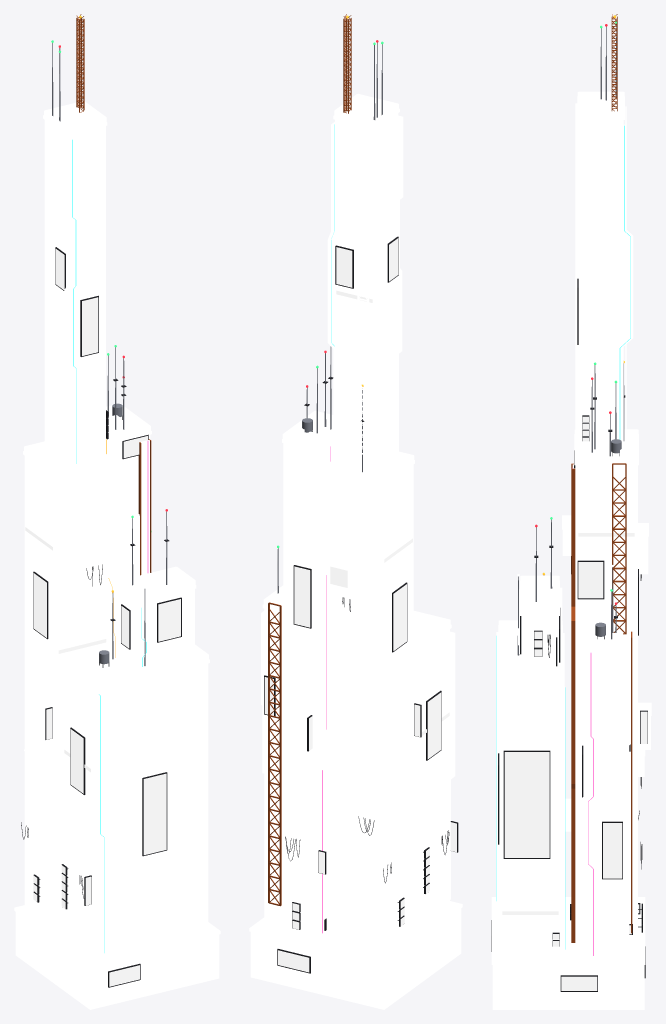
Rendered from k_block_a.glb.
The picture shows the model from 3 angles, left to right: view 1: azimuth 30°, elevation 25°; view 2: azimuth 150°, elevation 25°; view 3: azimuth 270°, elevation 25°; orthographic projection. The views are drawn at different scales.
Visible parts, largest first — view 1: kit_dark, kit_mid, kit_grey, screen_atlas, metal_dark, steel_orange, metal_light, neon_cyan; view 2: kit_mid, kit_dark, kit_grey, screen_atlas, steel_orange, metal_dark, metal_light; view 3: kit_dark, kit_grey, kit_mid, screen_atlas, steel_orange, metal_dark, kit_hex, metal_light, neon_cyan, neon_magenta.
Boxes of the visible parts, bbox=[...] form: kit_dark: bbox=[44, 120, 208, 957]; kit_mid: bbox=[15, 107, 219, 1009]; kit_grey: bbox=[14, 101, 220, 965]; screen_atlas: bbox=[25, 249, 180, 986]; metal_dark: bbox=[21, 247, 181, 987]; steel_orange: bbox=[76, 14, 151, 575]; metal_light: bbox=[52, 43, 167, 665]; neon_cyan: bbox=[72, 139, 146, 952]; kit_mid: bbox=[250, 100, 461, 1009]; kit_dark: bbox=[283, 113, 449, 940]; kit_grey: bbox=[249, 93, 462, 964]; screen_atlas: bbox=[264, 238, 456, 972]; steel_orange: bbox=[268, 14, 351, 906]; metal_dark: bbox=[264, 236, 458, 973]; metal_light: bbox=[277, 42, 382, 593]; kit_dark: bbox=[499, 120, 637, 957]; kit_grey: bbox=[491, 91, 651, 964]; kit_mid: bbox=[492, 98, 650, 1009]; screen_atlas: bbox=[502, 416, 647, 990]; steel_orange: bbox=[571, 14, 632, 942]; metal_dark: bbox=[491, 278, 647, 991]; kit_hex: bbox=[588, 223, 601, 366]; metal_light: bbox=[517, 25, 624, 655]; neon_cyan: bbox=[496, 125, 630, 949]; neon_magenta: bbox=[572, 468, 593, 955].
Bounding box in the file's own units: 35.1 × 236 × 35.9.
